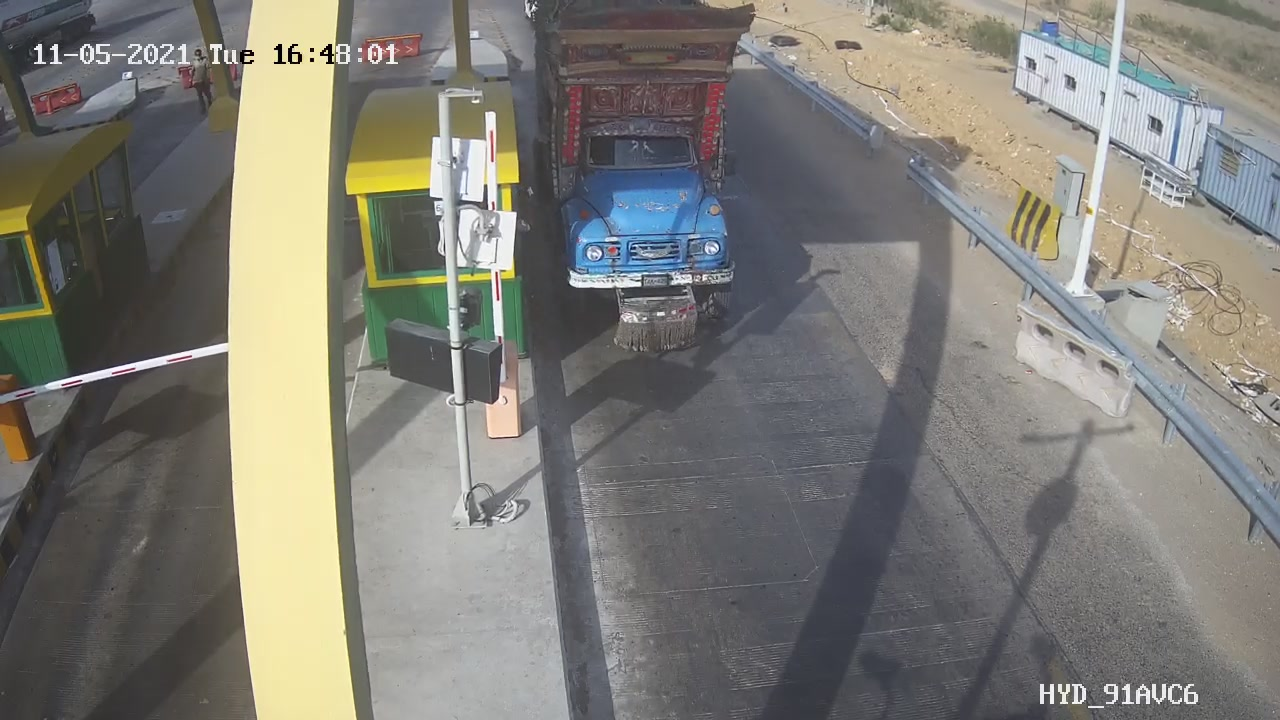F5: (521, 1, 782, 370)
